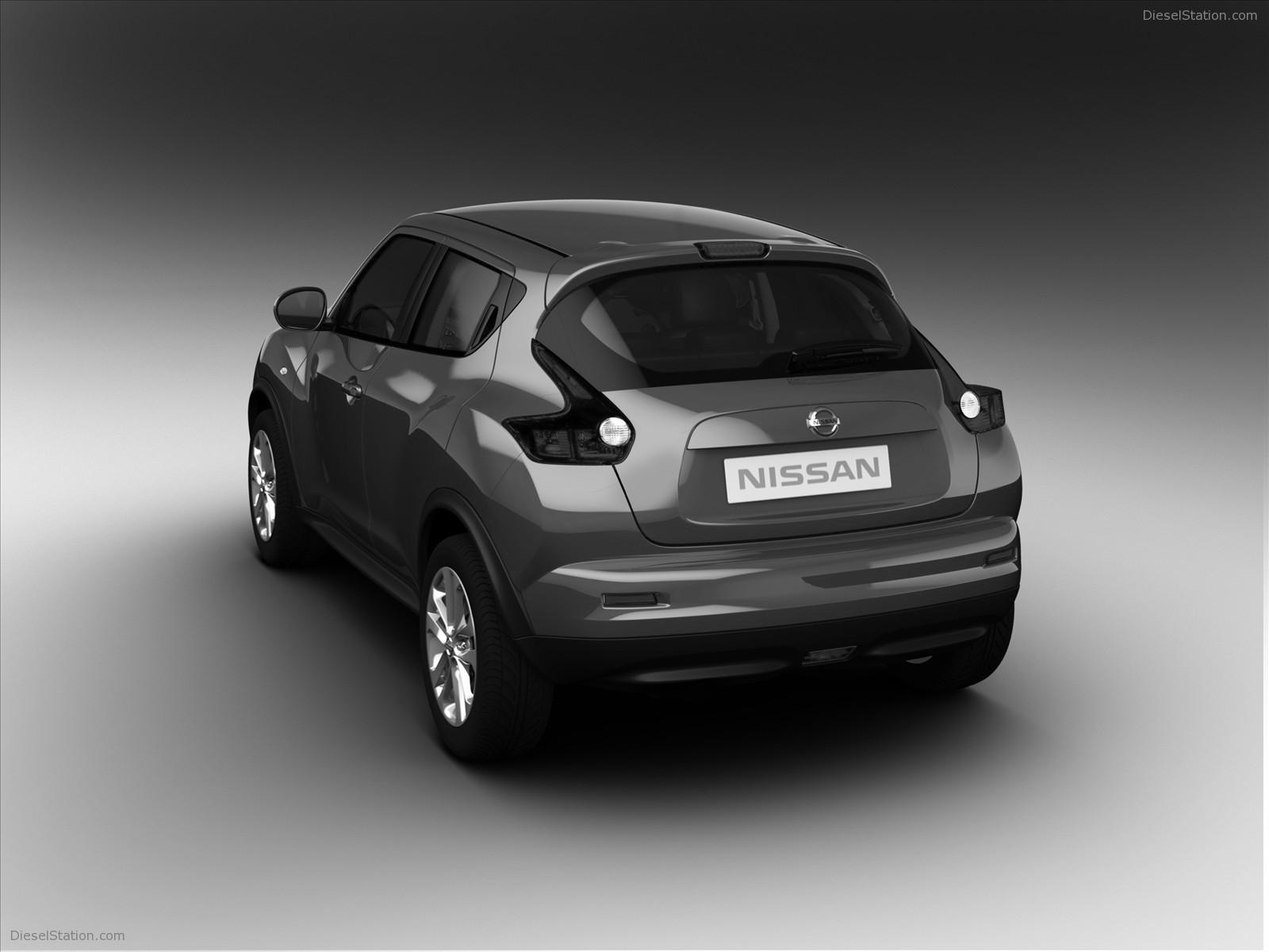car: (248, 198, 1024, 767)
